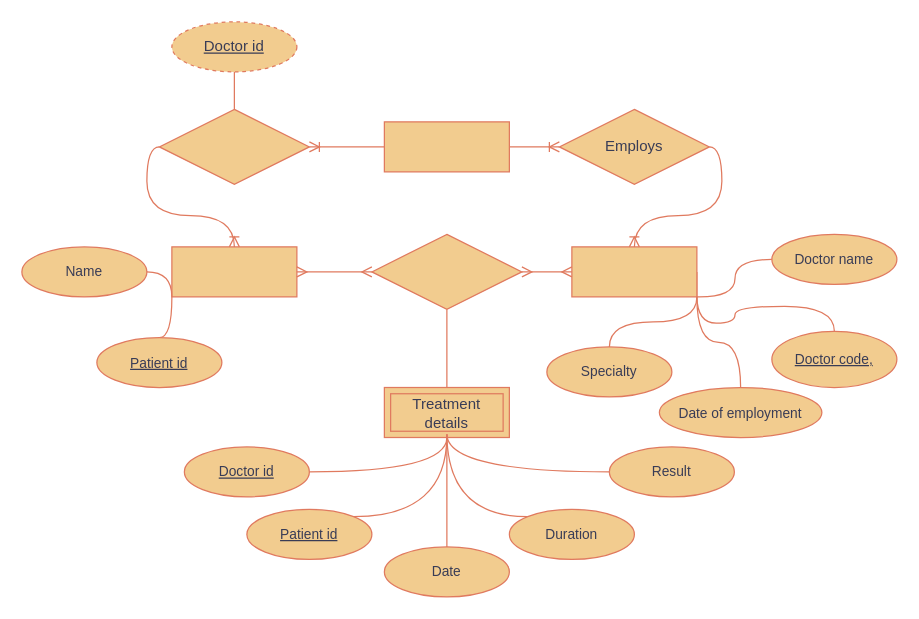
Image size: 919x619. Some labels were removed from this diagram. Here are the shapes that lost their labels. From the top down, the centre of each, then its label:
At [233,146]: "Admits".
At [446,146]: "Hospital".
At [234,271]: "Patients".
At [446,271]: "Treats".
At [634,271]: "Doctors".
